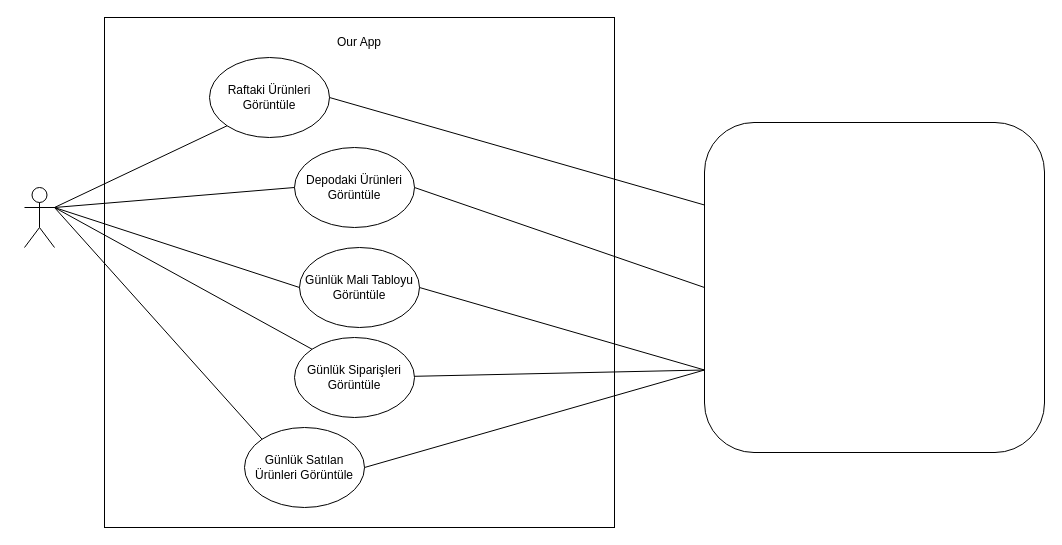
Image size: 1062x545. Some labels were removed from this diagram. The shapes that lost their labels are listed below. From the top down, each one's box as (x1, y1, x2, y2) in pixels, then its label:
(24, 186, 54, 248): Kullanici
(704, 122, 1044, 452): Storage Engine
